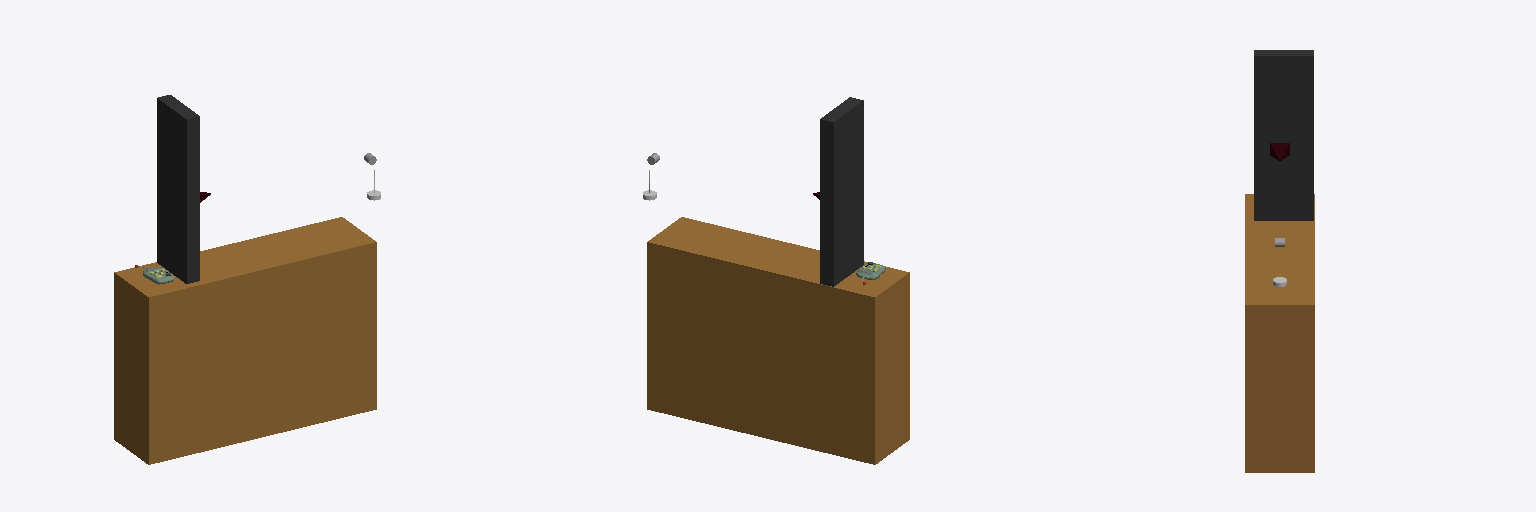
Rendered from string-apparatus.obj.
3 renders of one model, left to right at view 1: azimuth 30°, elevation 25°; view 2: azimuth 150°, elevation 25°; view 3: azimuth 270°, elevation 25°, orthographic.
Visible parts, largest first — view 1: Desk_desk, Cube.001_stand; view 2: Desk_desk, Cube.001_stand; view 3: Desk_desk, Cube.001_stand.
Part boxes in pixels (left/top/right/bottom): Desk_desk: left=114, top=217, right=376, bottom=464; Cube.001_stand: left=157, top=95, right=199, bottom=283; Desk_desk: left=647, top=217, right=909, bottom=464; Cube.001_stand: left=820, top=97, right=863, bottom=286; Desk_desk: left=1245, top=194, right=1314, bottom=472; Cube.001_stand: left=1254, top=50, right=1313, bottom=220.
Size of the model in its own units: 3.11 by 3.97 by 0.7472.